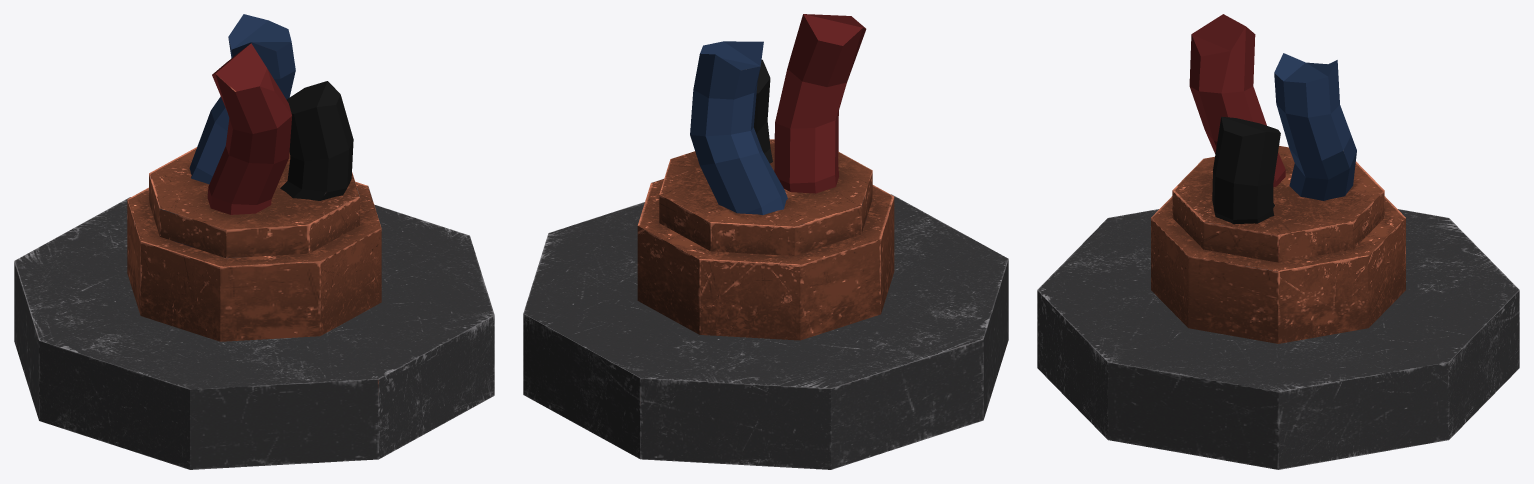
File: Battery.gltf
The picture shows the model from 3 angles, left to right: view 1: azimuth 30°, elevation 25°; view 2: azimuth 150°, elevation 25°; view 3: azimuth 270°, elevation 25°; orthographic projection. The views are drawn at different scales.
Parts seen in each view (by area): view 1: Cylinder.016; view 2: Cylinder.016; view 3: Cylinder.016.
Boxes of the visible parts, x1,y1,x2,y2 form: Cylinder.016: (14, 14, 494, 469); Cylinder.016: (523, 14, 1008, 469); Cylinder.016: (1037, 14, 1519, 469).
Bounding box in the file's own units: 0.563 × 0.4276 × 0.563.
Materials: 1 (1 with a texture image).
